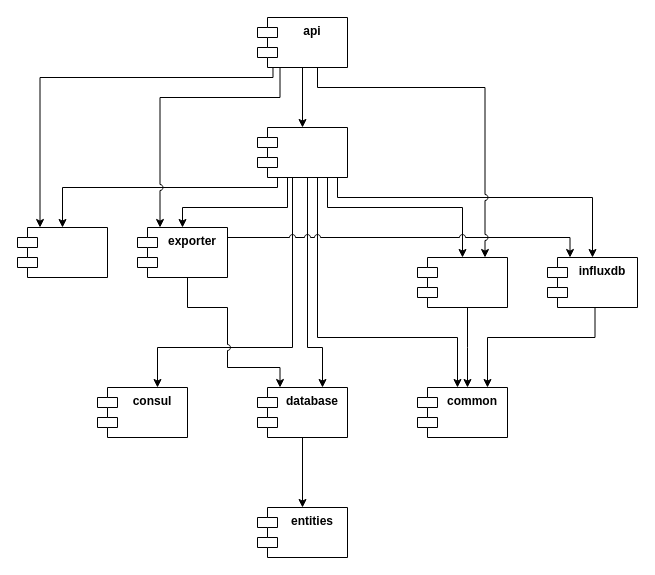
The diagram is 655 pixels wide and 575 high, and some of its shapes have lost their labels. The box of each missing label's shape, as (x1, y1, x2, y2) in pixels:
camt: (416, 256, 508, 308)
importer: (256, 126, 348, 178)
uploader: (16, 226, 108, 278)
